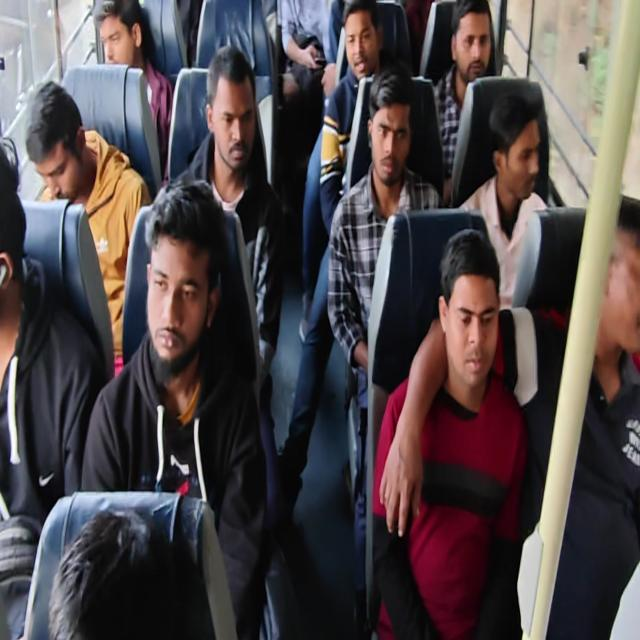person: (1, 1, 638, 638), (80, 178, 267, 637), (326, 65, 443, 628), (371, 227, 528, 638), (277, 1, 391, 517), (518, 193, 639, 639), (0, 141, 105, 638), (169, 44, 284, 391), (26, 80, 152, 376), (47, 507, 217, 639), (457, 92, 549, 310), (318, 0, 388, 235), (92, 0, 174, 181), (432, 0, 496, 205), (278, 0, 336, 98)
